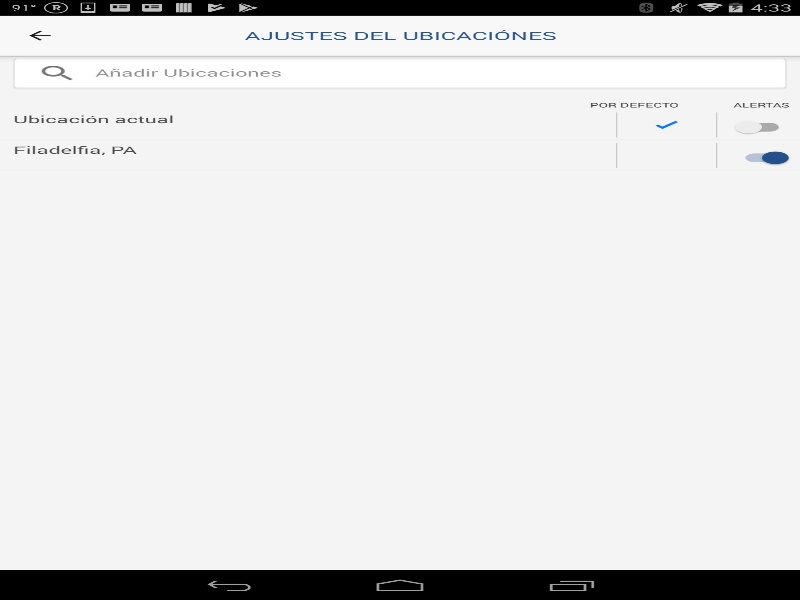Button: (669, 109, 786, 139), (669, 140, 786, 170), (10, 15, 69, 55)
Input: (13, 58, 786, 90)
